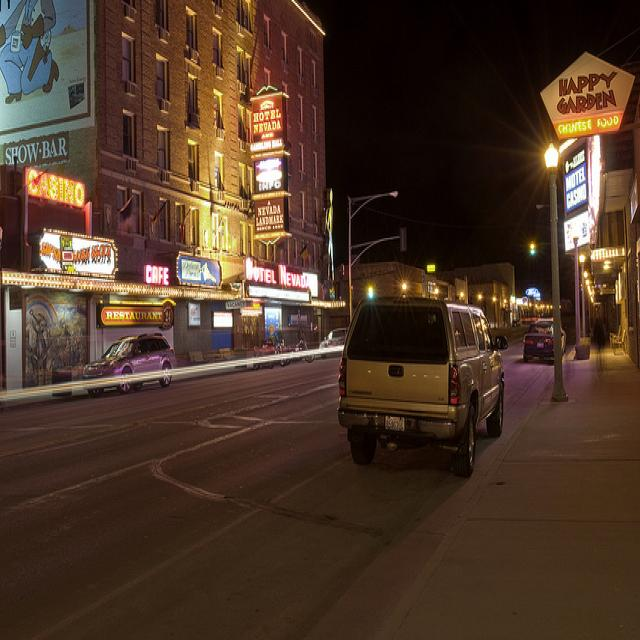motor: (283, 330, 315, 364)
